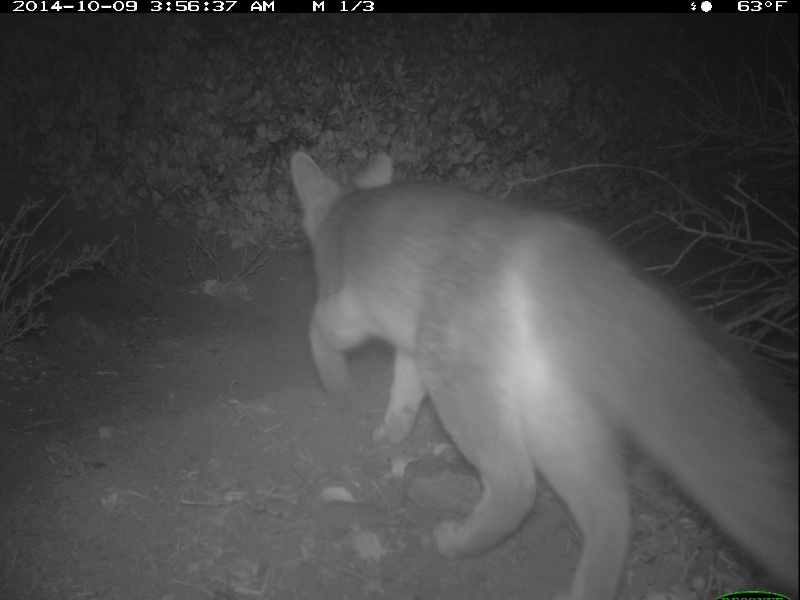coyote: (284, 141, 798, 600)
